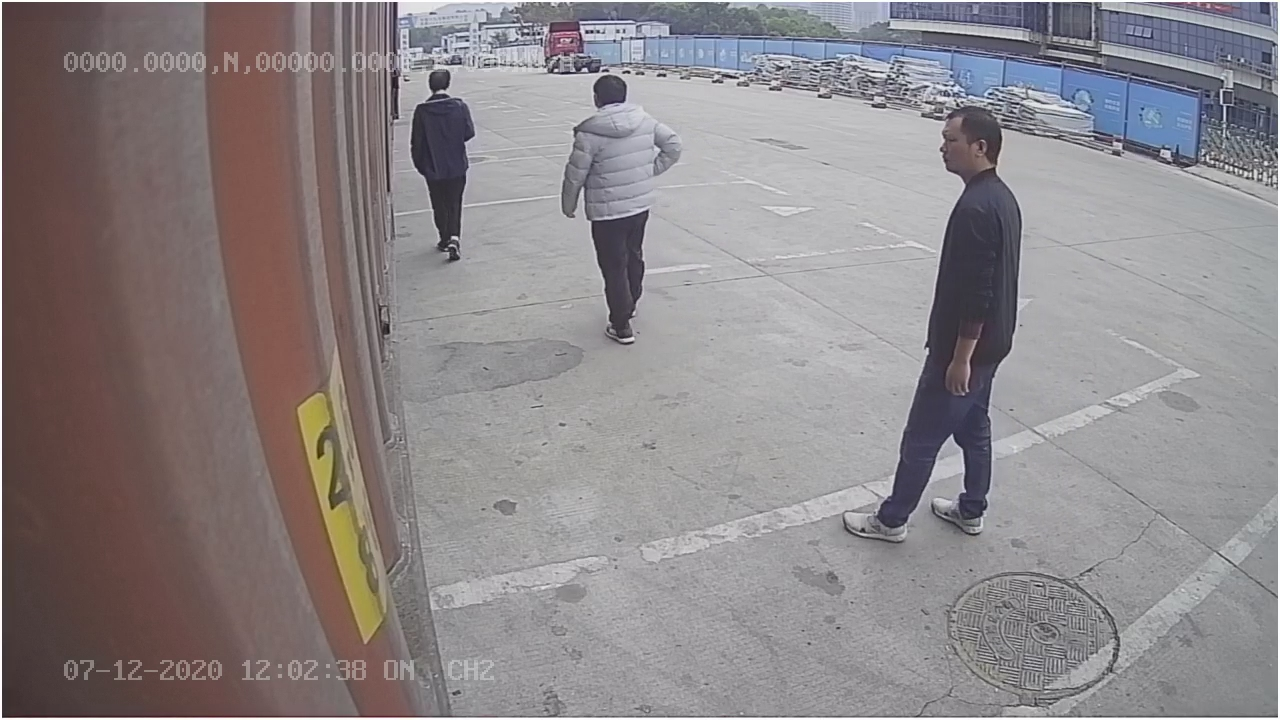person: (842, 99, 1034, 541), (562, 75, 684, 346)
